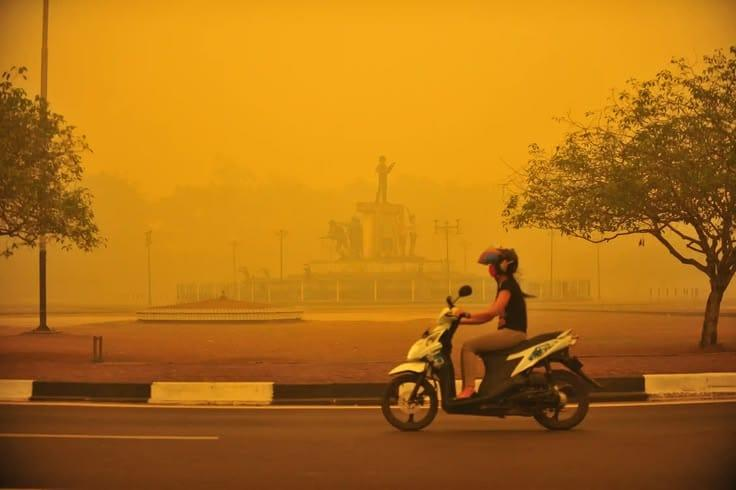Deteksi-Objek-Citra-Berasap: (0, 0, 736, 381)
Kendaraan: (380, 285, 599, 433)
Manusia: (453, 246, 529, 402)
Vegetasi: (500, 43, 736, 350), (0, 65, 106, 257)
